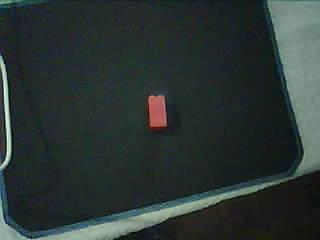lego: (146, 93, 168, 129)
